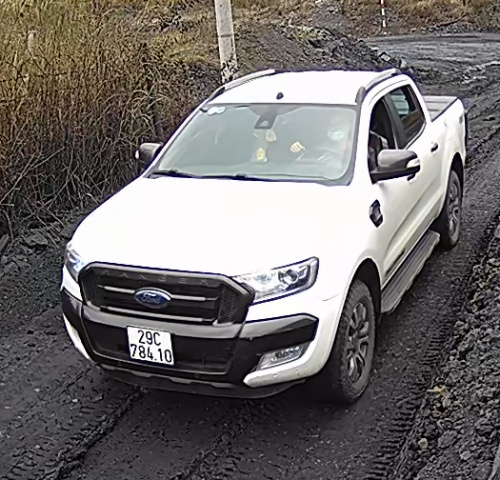vehicle plate: (122, 321, 178, 370)
